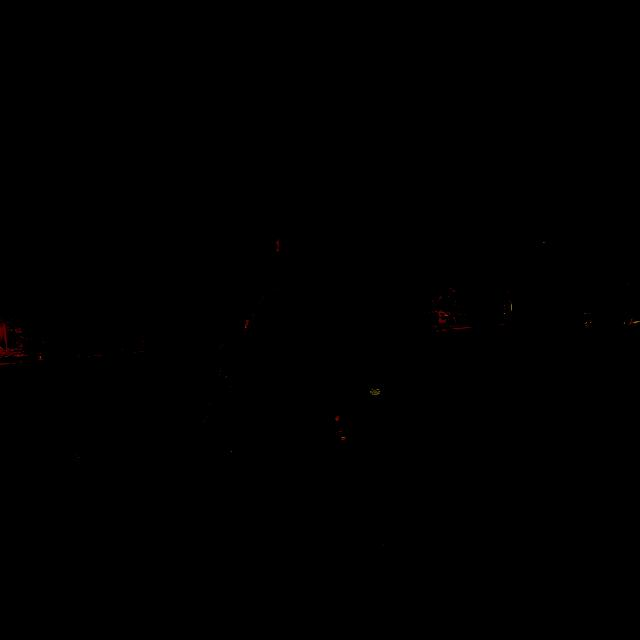Dog: (291, 308, 567, 462)
